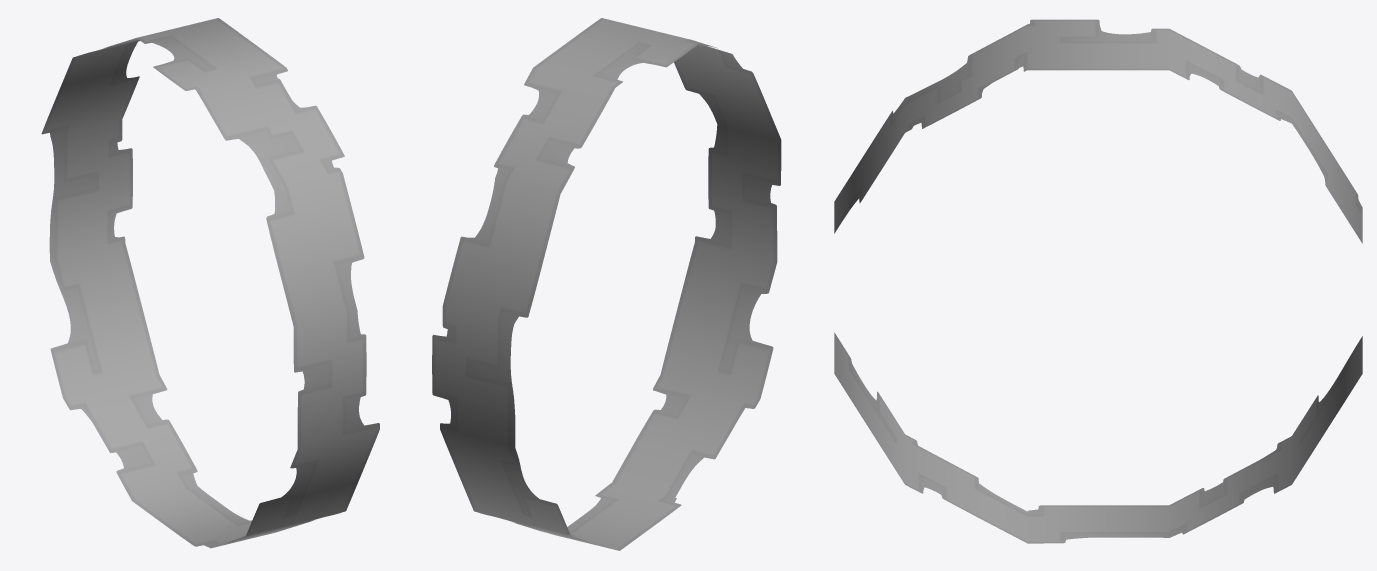
File: lanceeffects_out_02.fbx
The picture shows the model from 3 angles, left to right: view 1: azimuth 30°, elevation 25°; view 2: azimuth 150°, elevation 25°; view 3: azimuth 270°, elevation 25°; orthographic projection. The views are drawn at different scales.
Parts seen in each view (by area): view 1: ranceeffect_out_mesh02; view 2: ranceeffect_out_mesh02; view 3: ranceeffect_out_mesh02.
Boxes of the visible parts, x1,y1,x2,y2 form: ranceeffect_out_mesh02: [41, 18, 379, 548]; ranceeffect_out_mesh02: [432, 18, 781, 550]; ranceeffect_out_mesh02: [834, 19, 1362, 543].
Size of the model in its own units: 15.72 by 54.68 by 54.68.
1 material, 1 textured.
